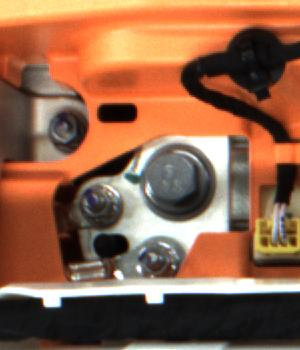nut_b: (127, 135, 214, 221)
screw_s: (136, 240, 176, 278), (76, 185, 115, 222), (48, 111, 81, 147)
